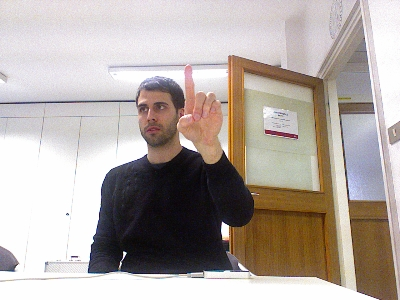食指: (175, 63, 223, 142)
